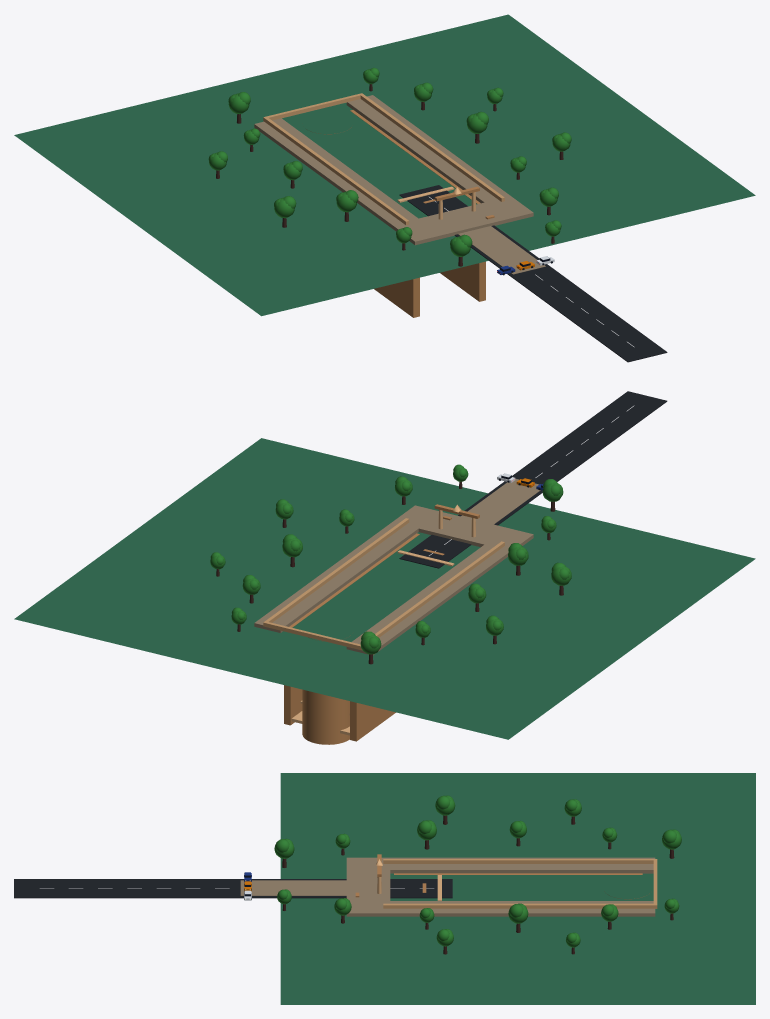
File: rani-ki-vav.glb
3 renders of one model, top to bottom at view 1: azimuth 30°, elevation 25°; view 2: azimuth 150°, elevation 25°; view 3: azimuth 270°, elevation 25°, orthographic. The views are drawn at different scales.
Parts seen in each view (by area): view 1: Surrounding_ASI_Heritage_Park, Rani_Ki_Vav_LiDAR_Digital_Twin, Subterranean_Pavilion_Tiers; view 2: Surrounding_ASI_Heritage_Park, Rani_Ki_Vav_LiDAR_Digital_Twin, Subterranean_Pavilion_Tiers, Deep_Well_Shaft_Reservoir; view 3: Surrounding_ASI_Heritage_Park, Rani_Ki_Vav_LiDAR_Digital_Twin, Subterranean_Pavilion_Tiers.
Boxes of the visible parts, x1,y1,x2,y2 form: Surrounding_ASI_Heritage_Park: [14, 14, 755, 362]; Rani_Ki_Vav_LiDAR_Digital_Twin: [254, 95, 533, 245]; Subterranean_Pavilion_Tiers: [350, 110, 485, 317]; Surrounding_ASI_Heritage_Park: [14, 391, 755, 739]; Rani_Ki_Vav_LiDAR_Digital_Twin: [254, 505, 533, 655]; Subterranean_Pavilion_Tiers: [284, 533, 454, 741]; Deep_Well_Shaft_Reservoir: [302, 635, 350, 744]; Surrounding_ASI_Heritage_Park: [14, 773, 755, 1004]; Rani_Ki_Vav_LiDAR_Digital_Twin: [346, 857, 655, 916]; Subterranean_Pavilion_Tiers: [394, 873, 642, 900].
Bounding box in the file's own units: 150 × 39.1 × 203.
